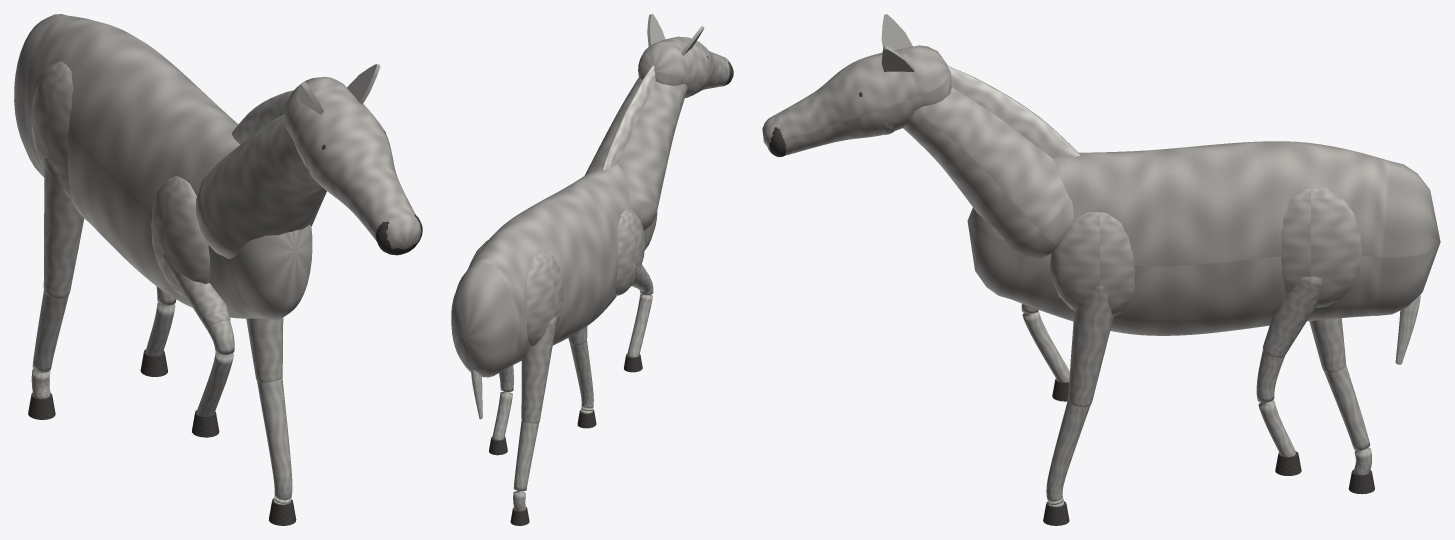
Rendered from farm-and-working-animals-hd-horse-trotting-grey-7709bcb7__29178.glb.
3 renders of one model, left to right at view 1: azimuth 30°, elevation 25°; view 2: azimuth 150°, elevation 25°; view 3: azimuth 270°, elevation 25°, orthographic. The views are drawn at different scales.
Parts seen in each view (by area): view 1: horse-trotting-grey; view 2: horse-trotting-grey; view 3: horse-trotting-grey.
Boxes of the visible parts, bbox=[...] form: horse-trotting-grey: bbox=[14, 14, 422, 525]; horse-trotting-grey: bbox=[451, 14, 733, 525]; horse-trotting-grey: bbox=[762, 14, 1440, 525].
Bounding box in the file's own units: 0.5076 × 2.16 × 2.8.
Materials: 3 (3 with a texture image).
